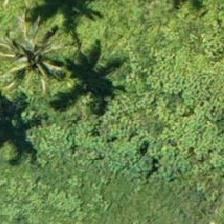coconut_tree: (0, 8, 71, 98)
